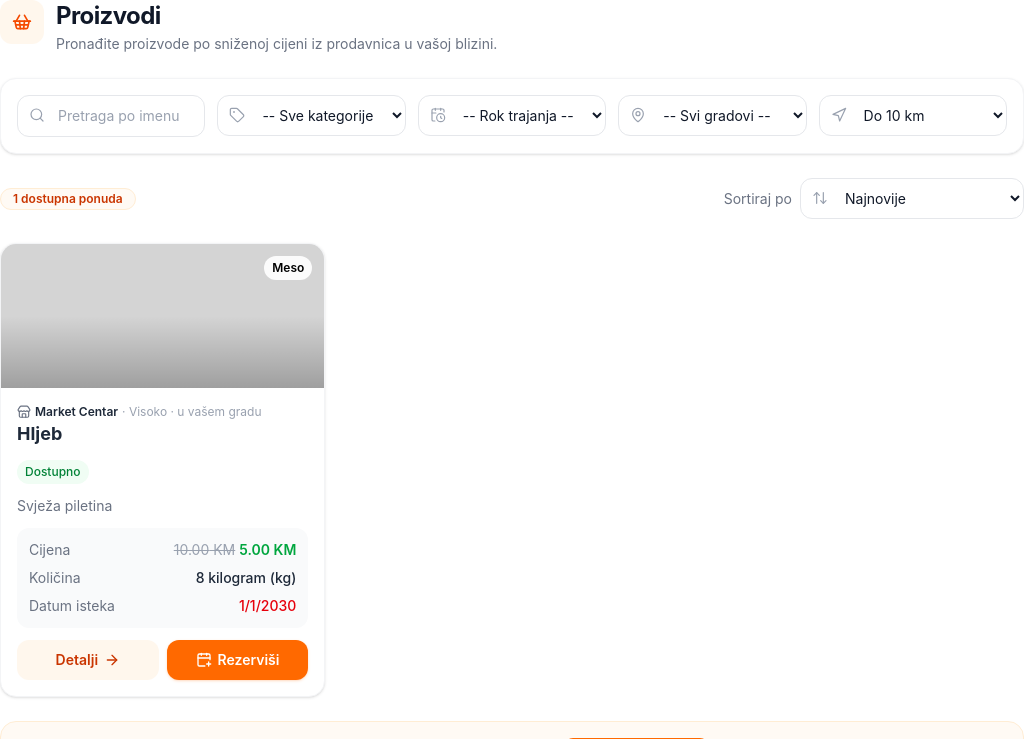
Test: BrowseProductsPage distance › explains an empty result with the radius and offers the next step
This screenshot has width=1024, height=739.
Expected: the heading "Hljeb" is shown, x1=17 y1=423 x2=62 y2=444
Select "Do 5 km" in the dropdown named "Udaljenost" at (913, 116), box x1=819 y1=95 x2=1007 y2=136
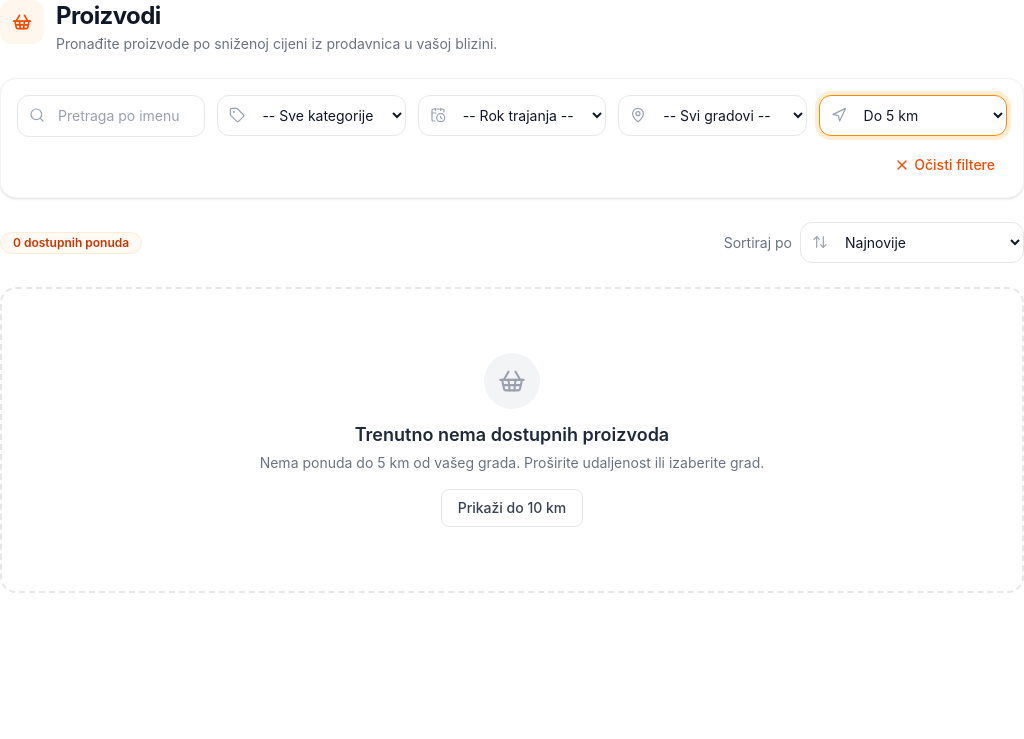
Click the button "Prikaži do 10 km" at (512, 508), box x1=441 y1=489 x2=583 y2=527
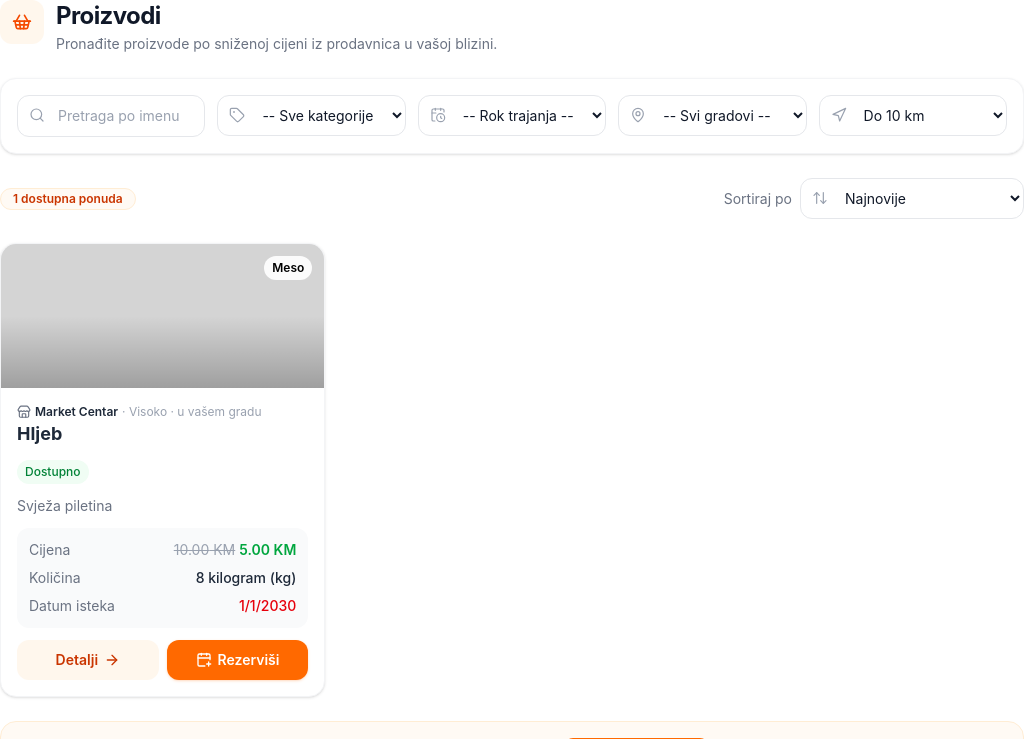
Expected: the heading "Hljeb" is shown, x1=17 y1=423 x2=62 y2=444
